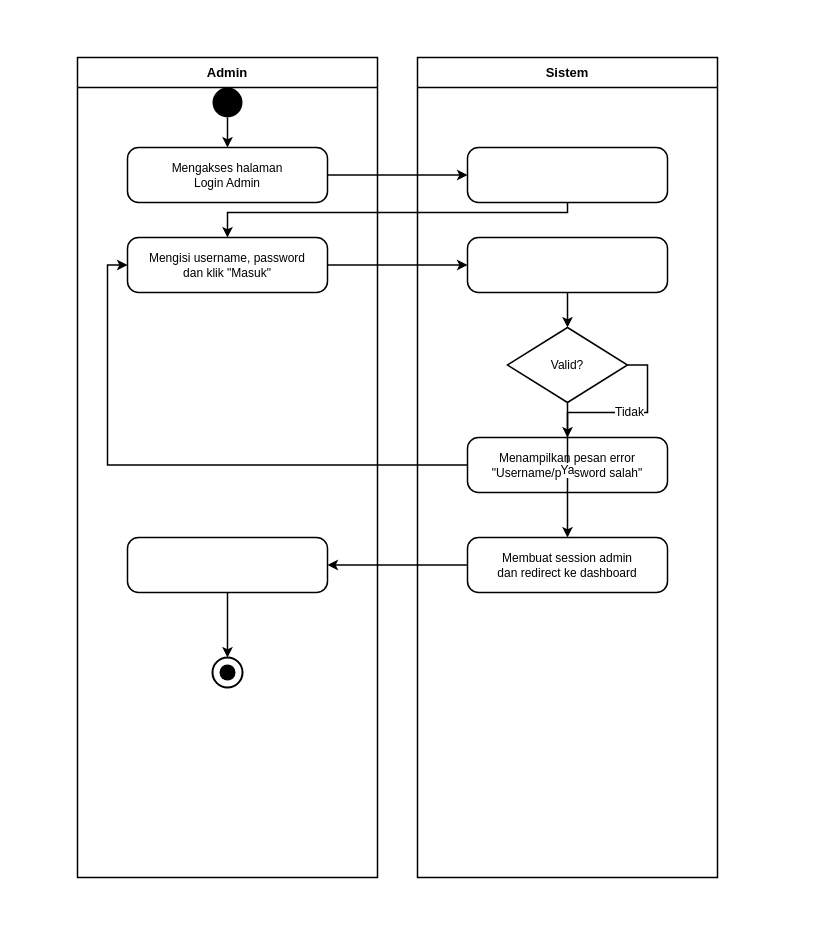
This 834x934 diagram has some shape labels left out. The centre of each missing label's shape, as x and y in pixels:
Melihat Dashboard Admin (Daftar Gejala): the point at 227,564
Memvalidasi kredensial dengan database: the point at 567,264
Menampilkan form login: the point at 567,174
